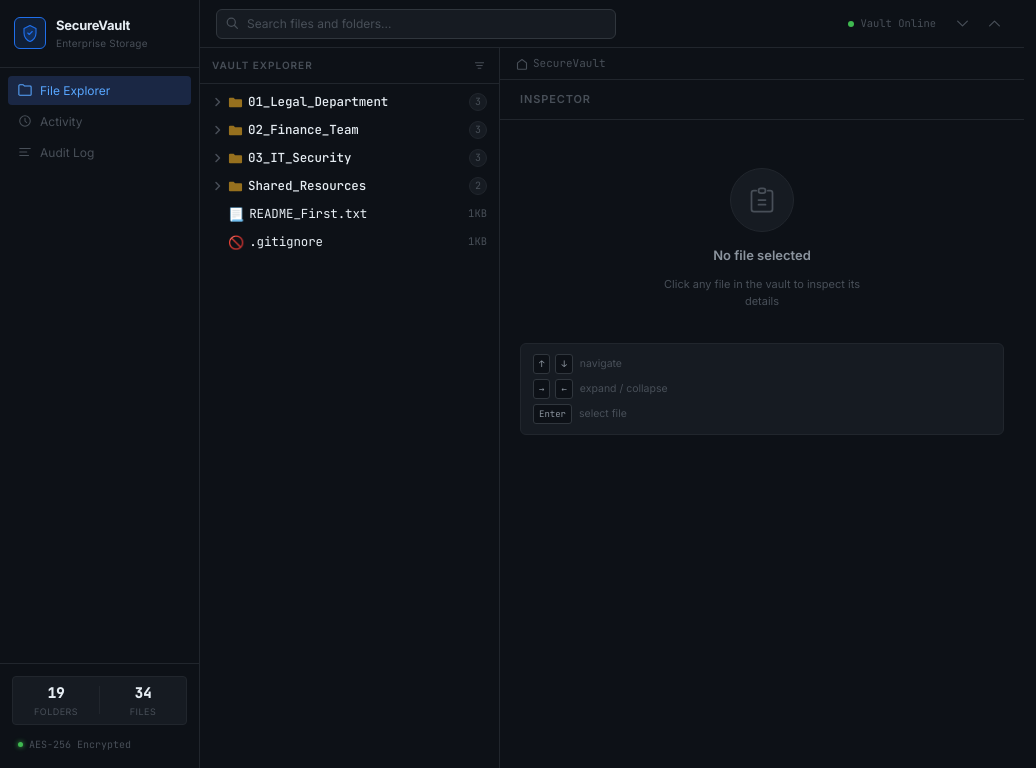
Test: SecureVault explorer interactions › selects a file and updates the inspector details
The image size is (1036, 768).
Click the text "01_Legal_Department": {"x": 318, "y": 101} x1=248 y1=93 x2=388 y2=110
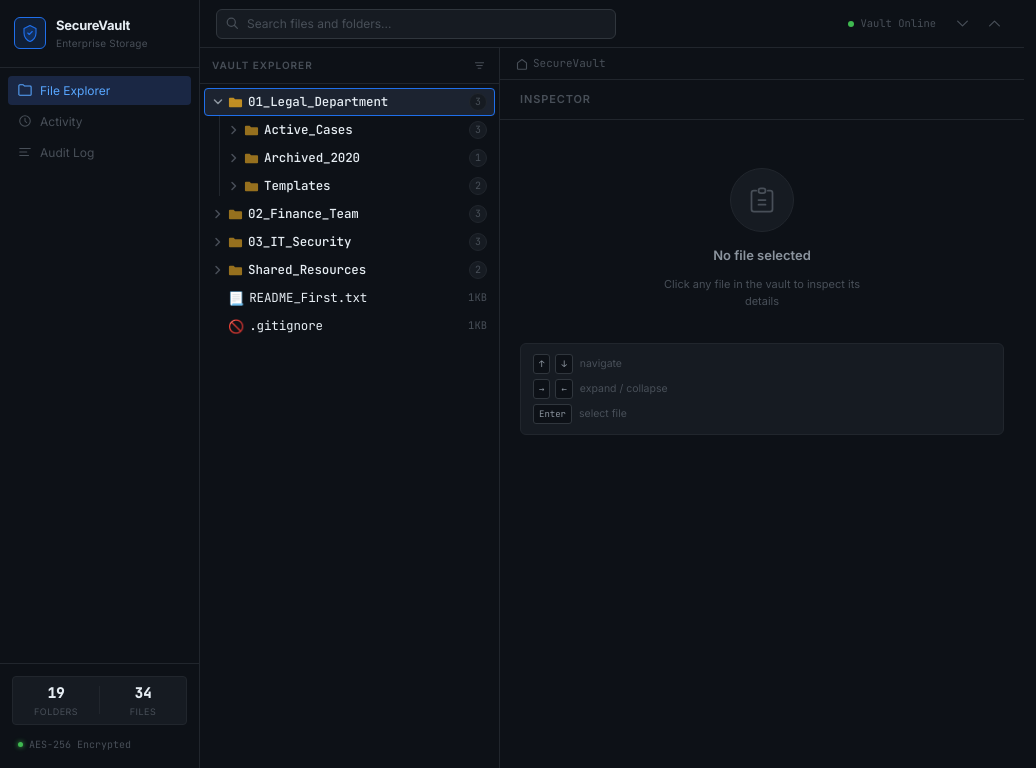
Click the text "Active_Cases": {"x": 308, "y": 129} x1=264 y1=121 x2=352 y2=138
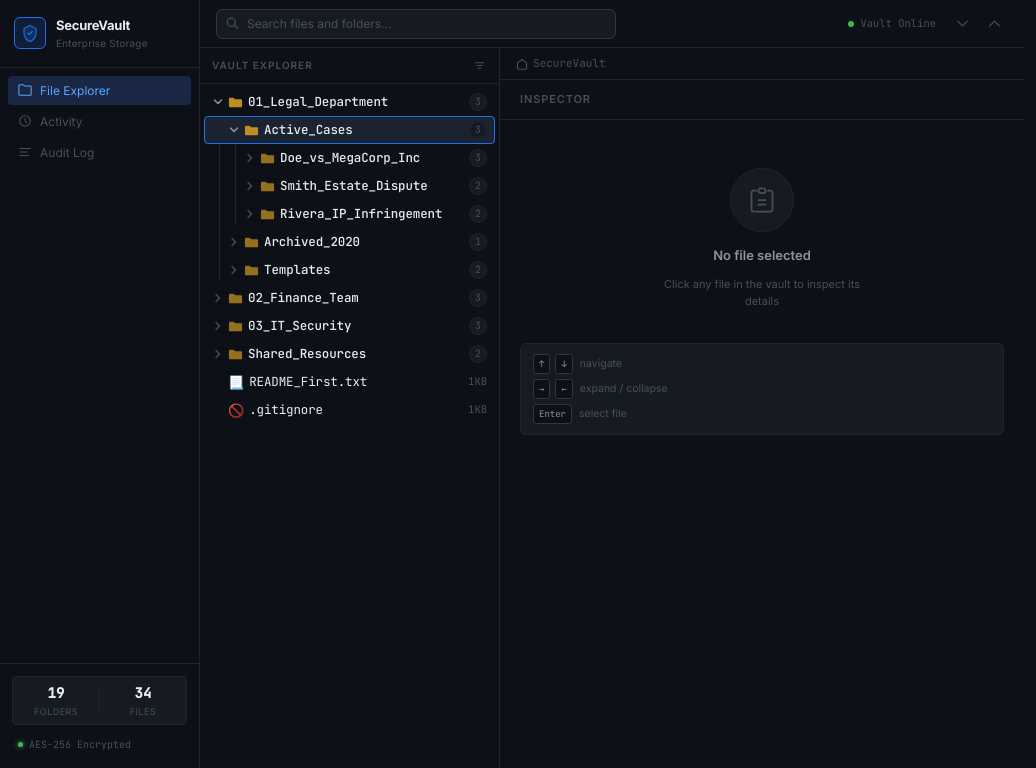
Click the text "Doe_vs_MegaCorp_Inc": {"x": 350, "y": 157} x1=280 y1=149 x2=420 y2=166
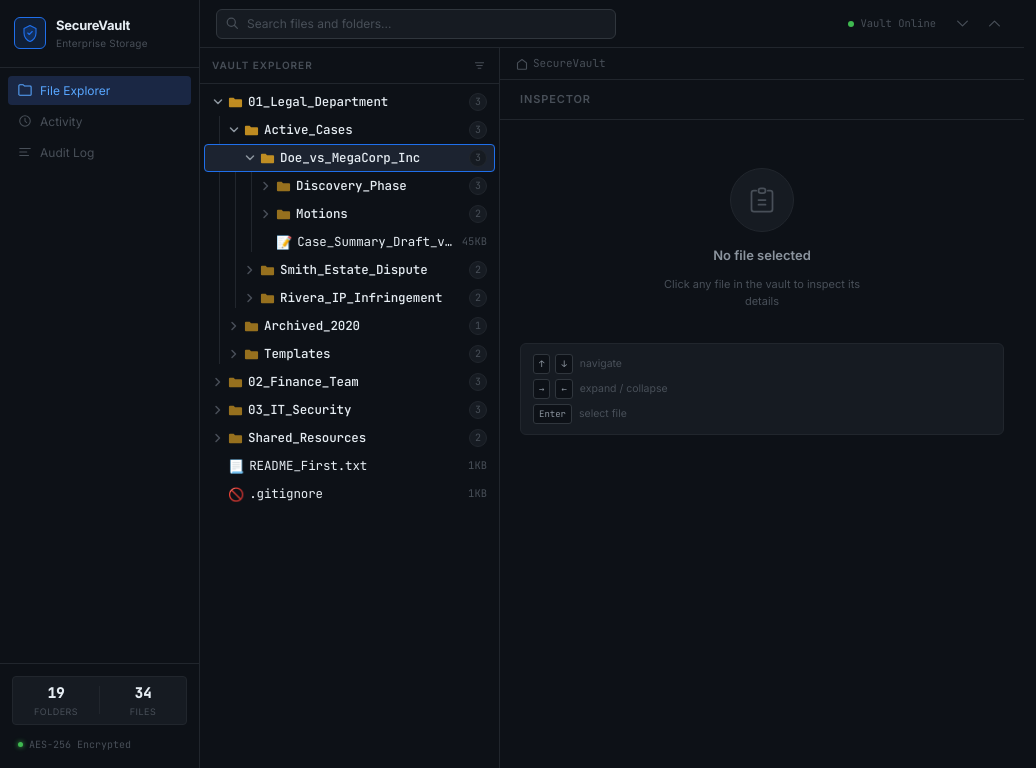
Click the text "Case_Summary_Draft_v3.docx": {"x": 377, "y": 242} x1=297 y1=233 x2=457 y2=251
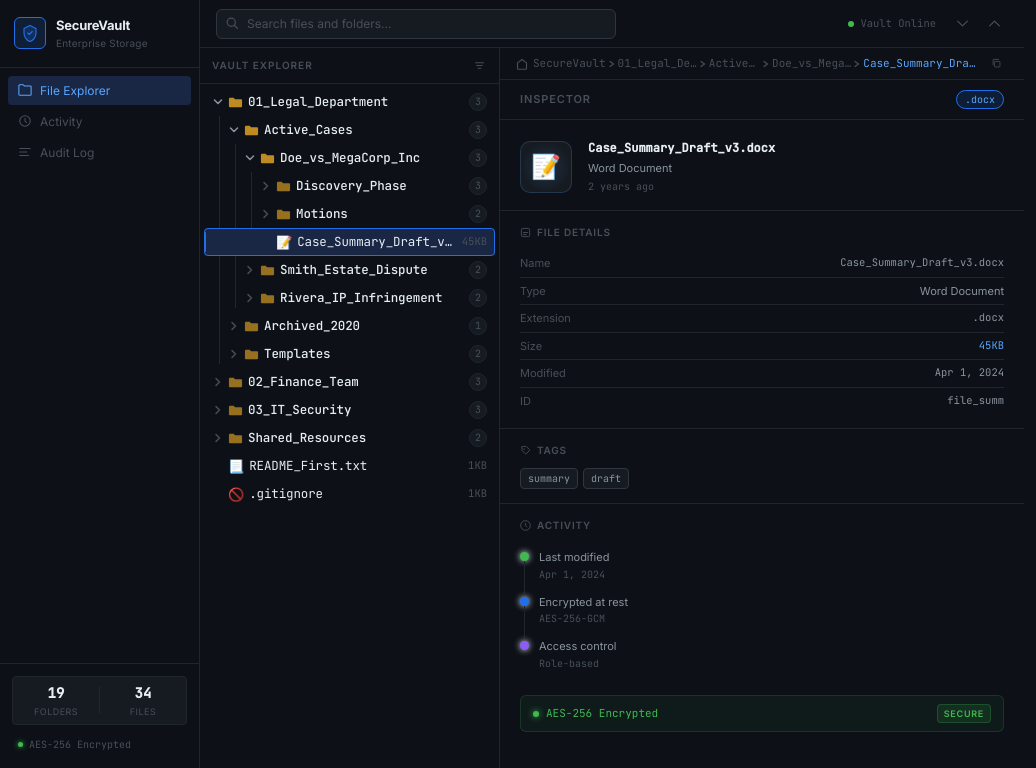
Expected: the text "Case_Summary_Draft_v3.docx" below "Motions" is shown, x1=297 y1=233 x2=489 y2=250
Expected: the text "45KB" is shown 2 times, x1=462 y1=234 x2=487 y2=250; x1=979 y1=338 x2=1004 y2=354
Expected: the text "Word Document" is shown 2 times, x1=588 y1=161 x2=672 y2=175; x1=920 y1=283 x2=1004 y2=299
